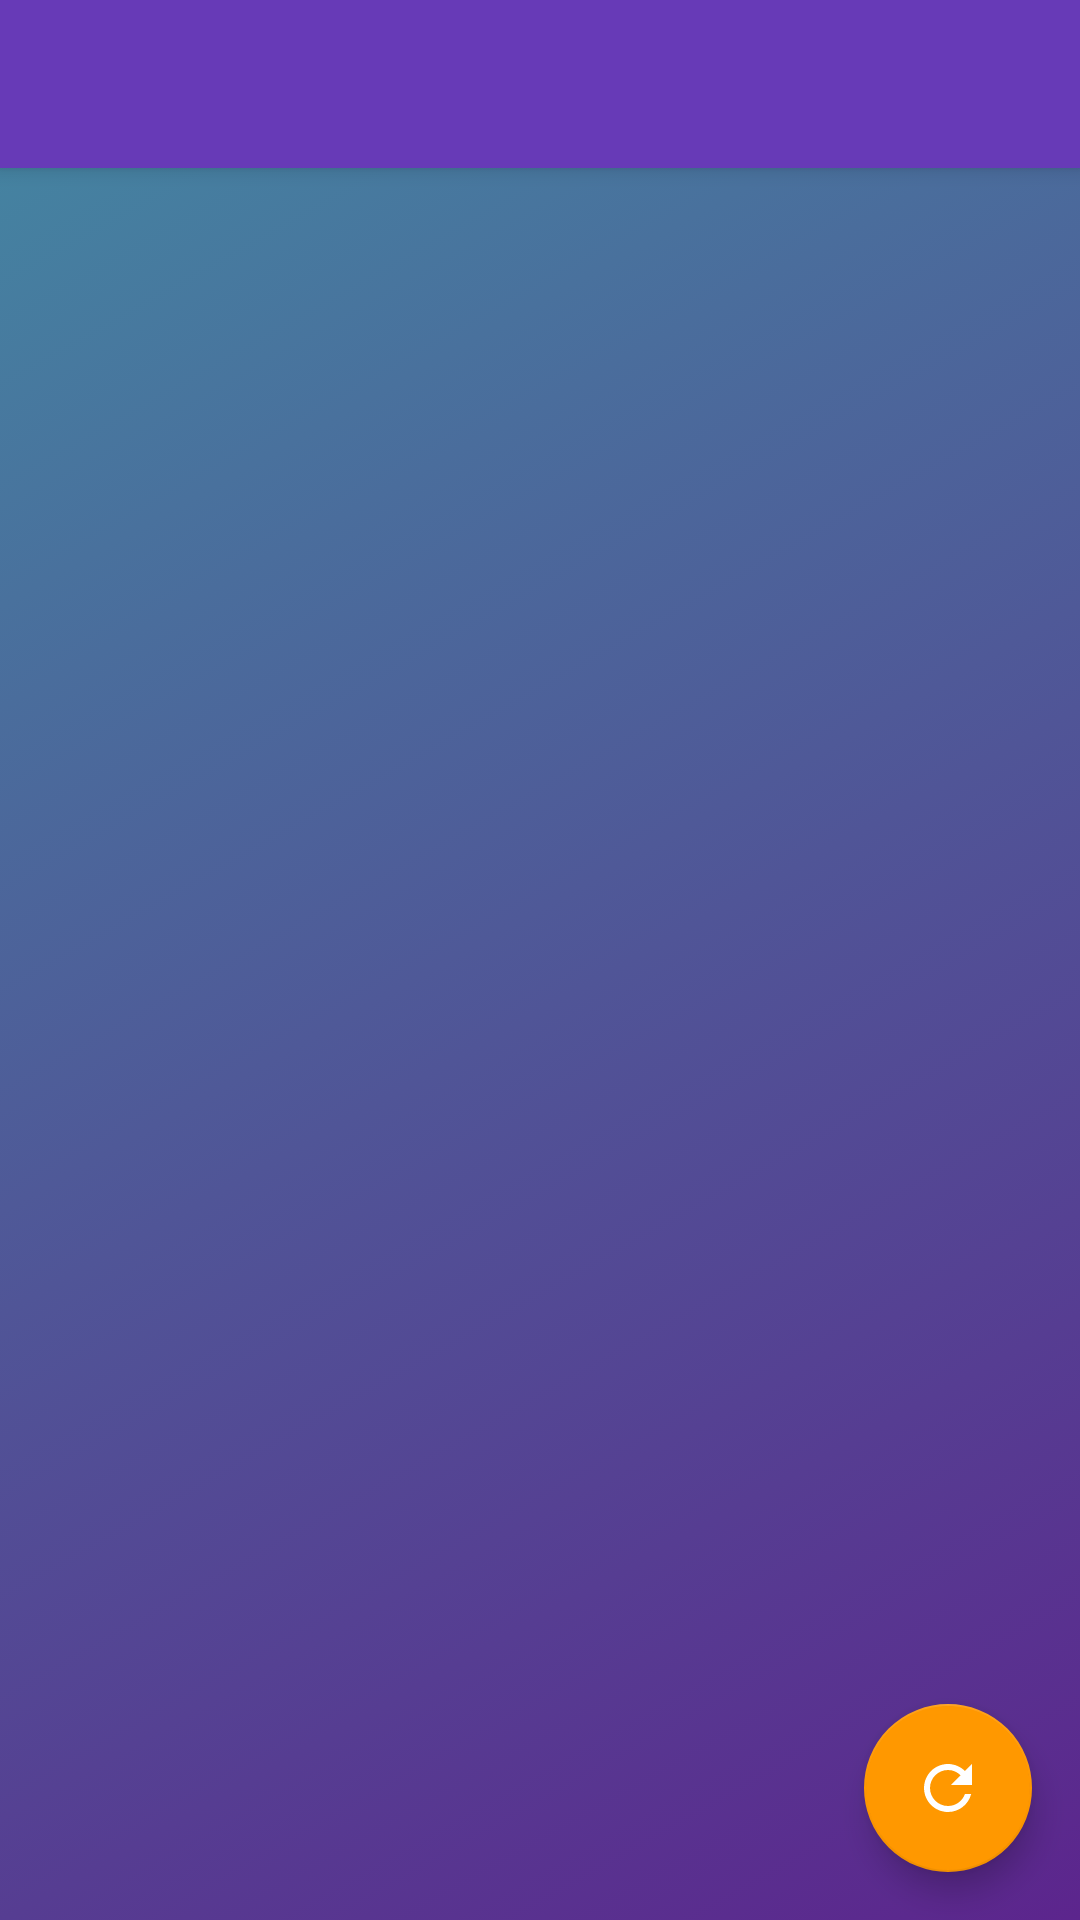

Where to tap for icons on this 1080 × 1920 app screen, as (x,y):
refresh: (948,1788)
